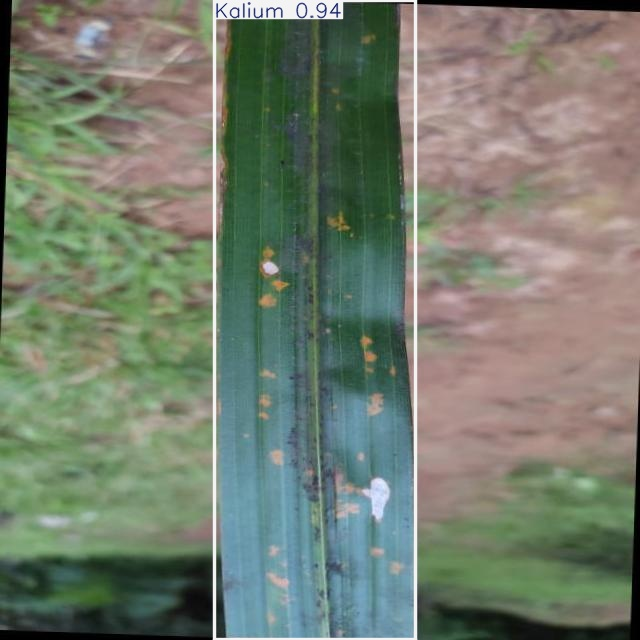Kalium: (214, 0, 416, 639)
